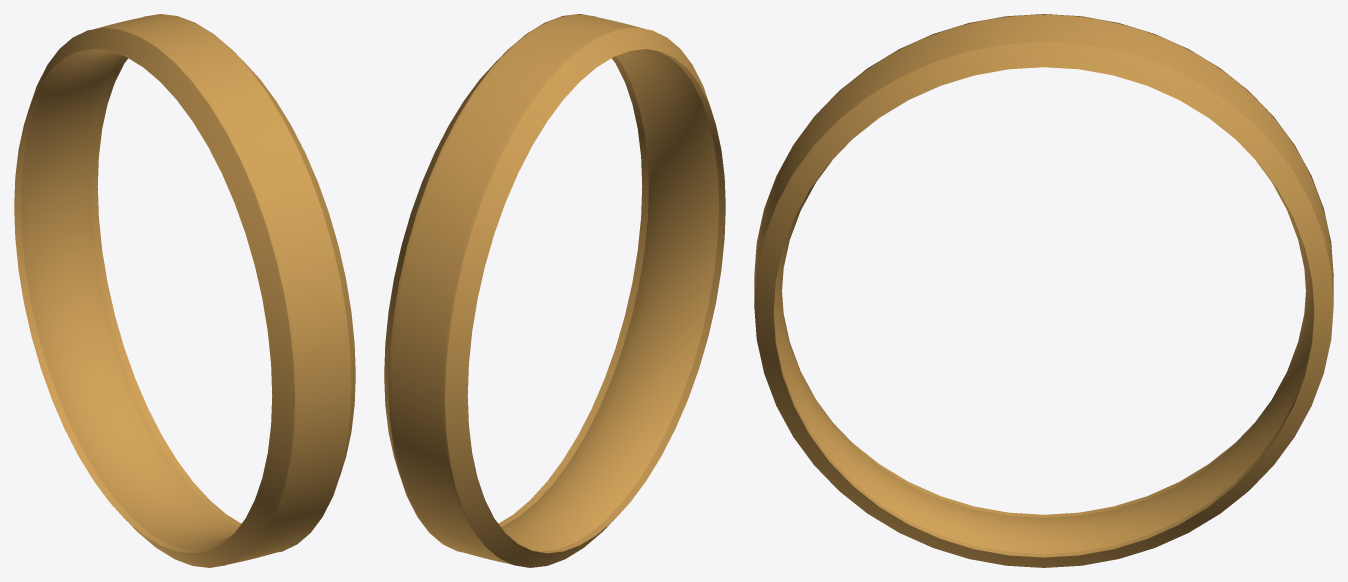
3 views of the same model, side by side, from view 1: azimuth 30°, elevation 25°; view 2: azimuth 150°, elevation 25°; view 3: azimuth 270°, elevation 25° (orthographic). The views are drawn at different scales.
Parts seen in each view (by area): view 1: P7-Inner, P7-Outer, P7-Sides; view 2: P7-Inner, P7-Outer, P7-Sides; view 3: P7-Sides, P7-Inner, P7-Outer.
Part boxes in pixels (x1,y1,x2,y2): P7-Inner: [21, 49, 238, 551]; P7-Outer: [94, 14, 350, 564]; P7-Sides: [14, 14, 355, 567]; P7-Inner: [501, 49, 718, 551]; P7-Outer: [389, 14, 645, 564]; P7-Sides: [384, 14, 725, 567]; P7-Sides: [754, 14, 1333, 567]; P7-Inner: [773, 161, 1314, 553]; P7-Outer: [754, 14, 1333, 301].
Bounding box in the file's own units: 0.00388 × 0.0222 × 0.0222.
